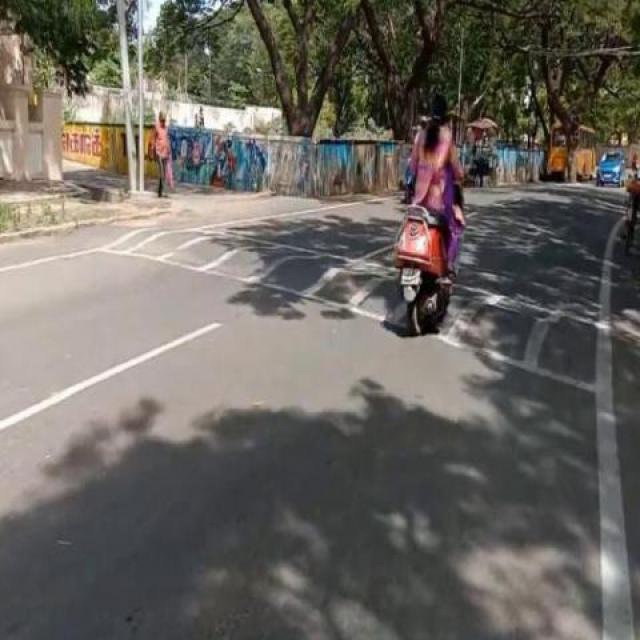Speed Bump: (91, 222, 401, 317), (452, 272, 639, 390)
